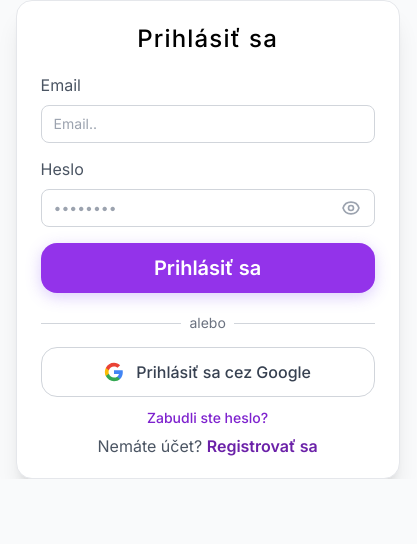
Test case: LoginForm › validates required fields
Click the button "Prihlásiť sa". click: (208, 268)
box: x1=41 y1=243 x2=375 y2=293
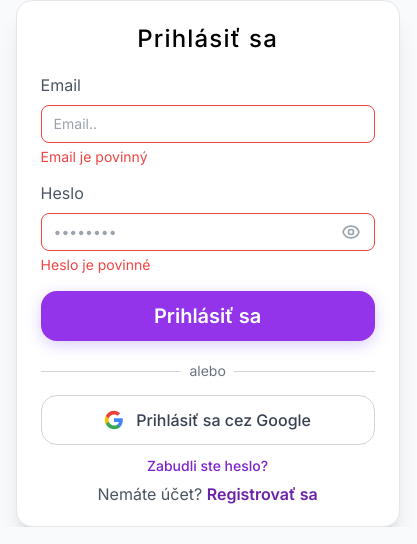
Now the text "Email je povinný" is shown, box x1=41 y1=148 x2=148 y2=165
Now the text "Heslo je povinné" is shown, box x1=41 y1=256 x2=150 y2=273
